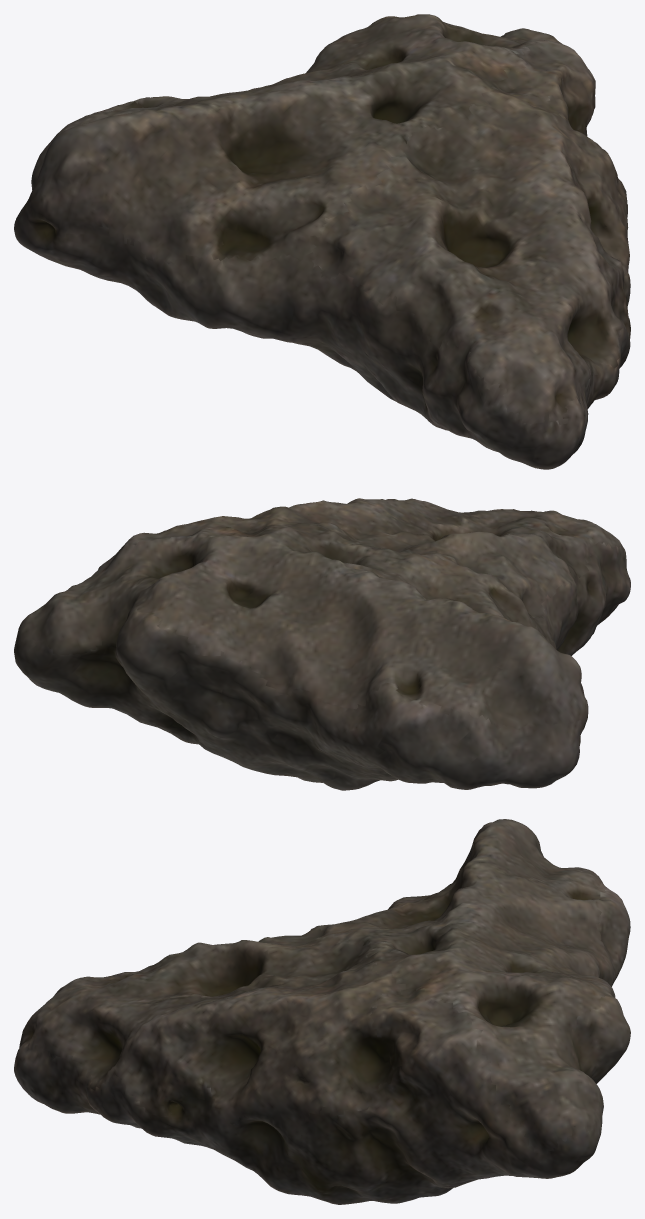
File: asteroid_uncommon_3_lod1.glb
3 renders of one model, top to bottom at view 1: azimuth 30°, elevation 25°; view 2: azimuth 150°, elevation 25°; view 3: azimuth 270°, elevation 25°, orthographic. The views are drawn at different scales.
Parts seen in each view (by area): view 1: model; view 2: model; view 3: model.
Boxes of the visible parts, x1=… form: model: x1=14, y1=14, x2=630, y2=469; model: x1=14, y1=498, x2=630, y2=790; model: x1=14, y1=819, x2=630, y2=1204.
Size of the model in its own units: 1.86 by 0.805 by 1.9.
1 material, 1 textured.
